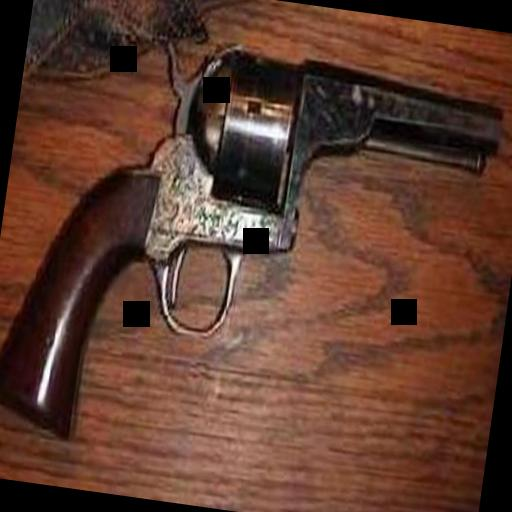Handgun: (0, 0, 509, 479)
